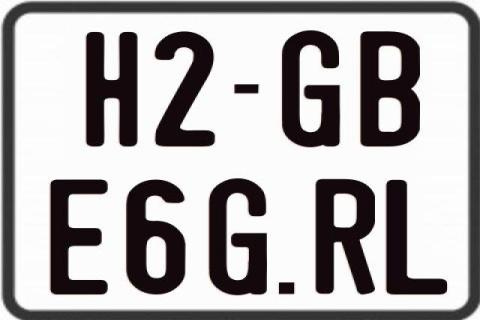0: (154, 30, 218, 148), (124, 180, 186, 294)
B: (358, 30, 419, 146)
E: (48, 180, 107, 298)
G: (281, 28, 340, 150), (206, 178, 266, 294)
H: (86, 32, 141, 151)
L: (386, 180, 451, 298)
R: (314, 178, 379, 296)
